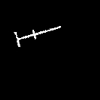double_crochet: (14, 26, 60, 46)
